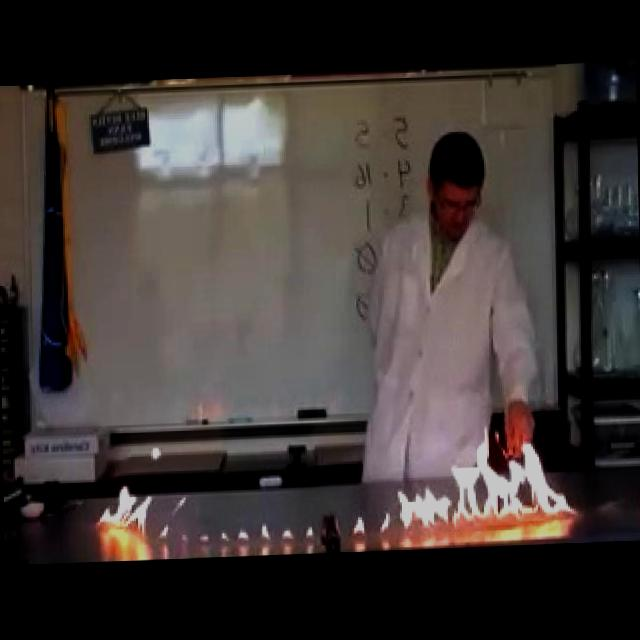Fire: (396, 421, 580, 532), (96, 479, 154, 543)
